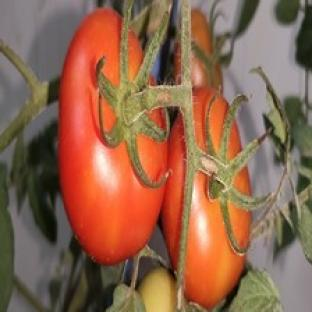Tomato: (59, 9, 164, 264), (184, 172, 245, 307), (138, 268, 176, 311), (191, 52, 222, 89)
